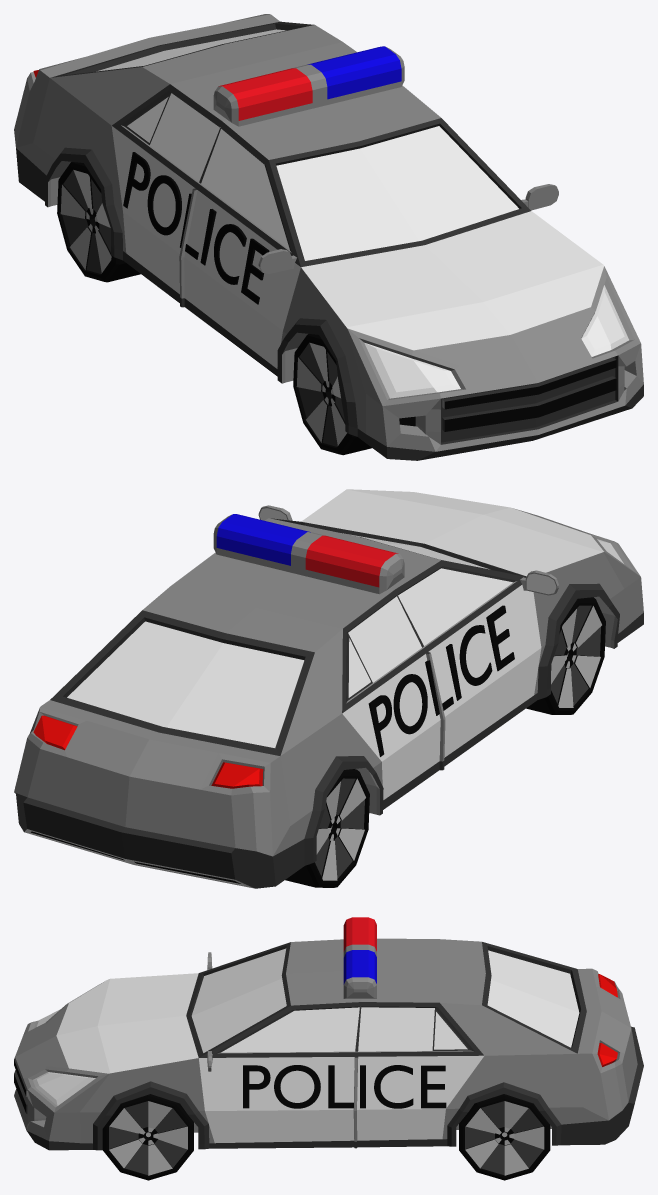
The picture shows the model from 3 angles, top to bottom: view 1: azimuth 30°, elevation 25°; view 2: azimuth 150°, elevation 25°; view 3: azimuth 270°, elevation 25°; orthographic projection. The views are drawn at different scales.
Visible parts, largest first — view 1: Body, S, R_R_Wheel, F_R_Wheel, Text.001; view 2: Body, S, R_R_Wheel, F_R_Wheel, Text.001; view 3: Body, R_L_Wheel, F_L_Wheel, Text, S.
Boxes of the visible parts, left/top/right/bottom form: Body: left=14, top=14, right=643, bottom=460; S: left=213, top=46, right=404, bottom=126; R_R_Wheel: left=57, top=162, right=140, bottom=282; F_R_Wheel: left=293, top=334, right=371, bottom=455; Text.001: left=123, top=152, right=269, bottom=304; Body: left=14, top=489, right=643, bottom=888; S: left=213, top=514, right=404, bottom=594; R_R_Wheel: left=285, top=769, right=369, bottom=887; F_R_Wheel: left=526, top=597, right=605, bottom=714; Text.001: left=368, top=605, right=514, bottom=756; Body: left=14, top=938, right=643, bottom=1150; R_L_Wheel: left=459, top=1094, right=550, bottom=1180; F_L_Wheel: left=102, top=1094, right=193, bottom=1180; Text: left=243, top=1065, right=446, bottom=1108; S: left=343, top=917, right=376, bottom=998.
Bounding box in the file's own units: 299 × 237 × 723.
